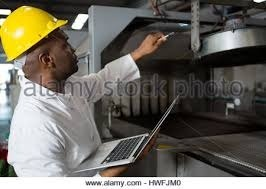helmet: (1, 6, 67, 58)
person with partial safety: (2, 4, 116, 180)
